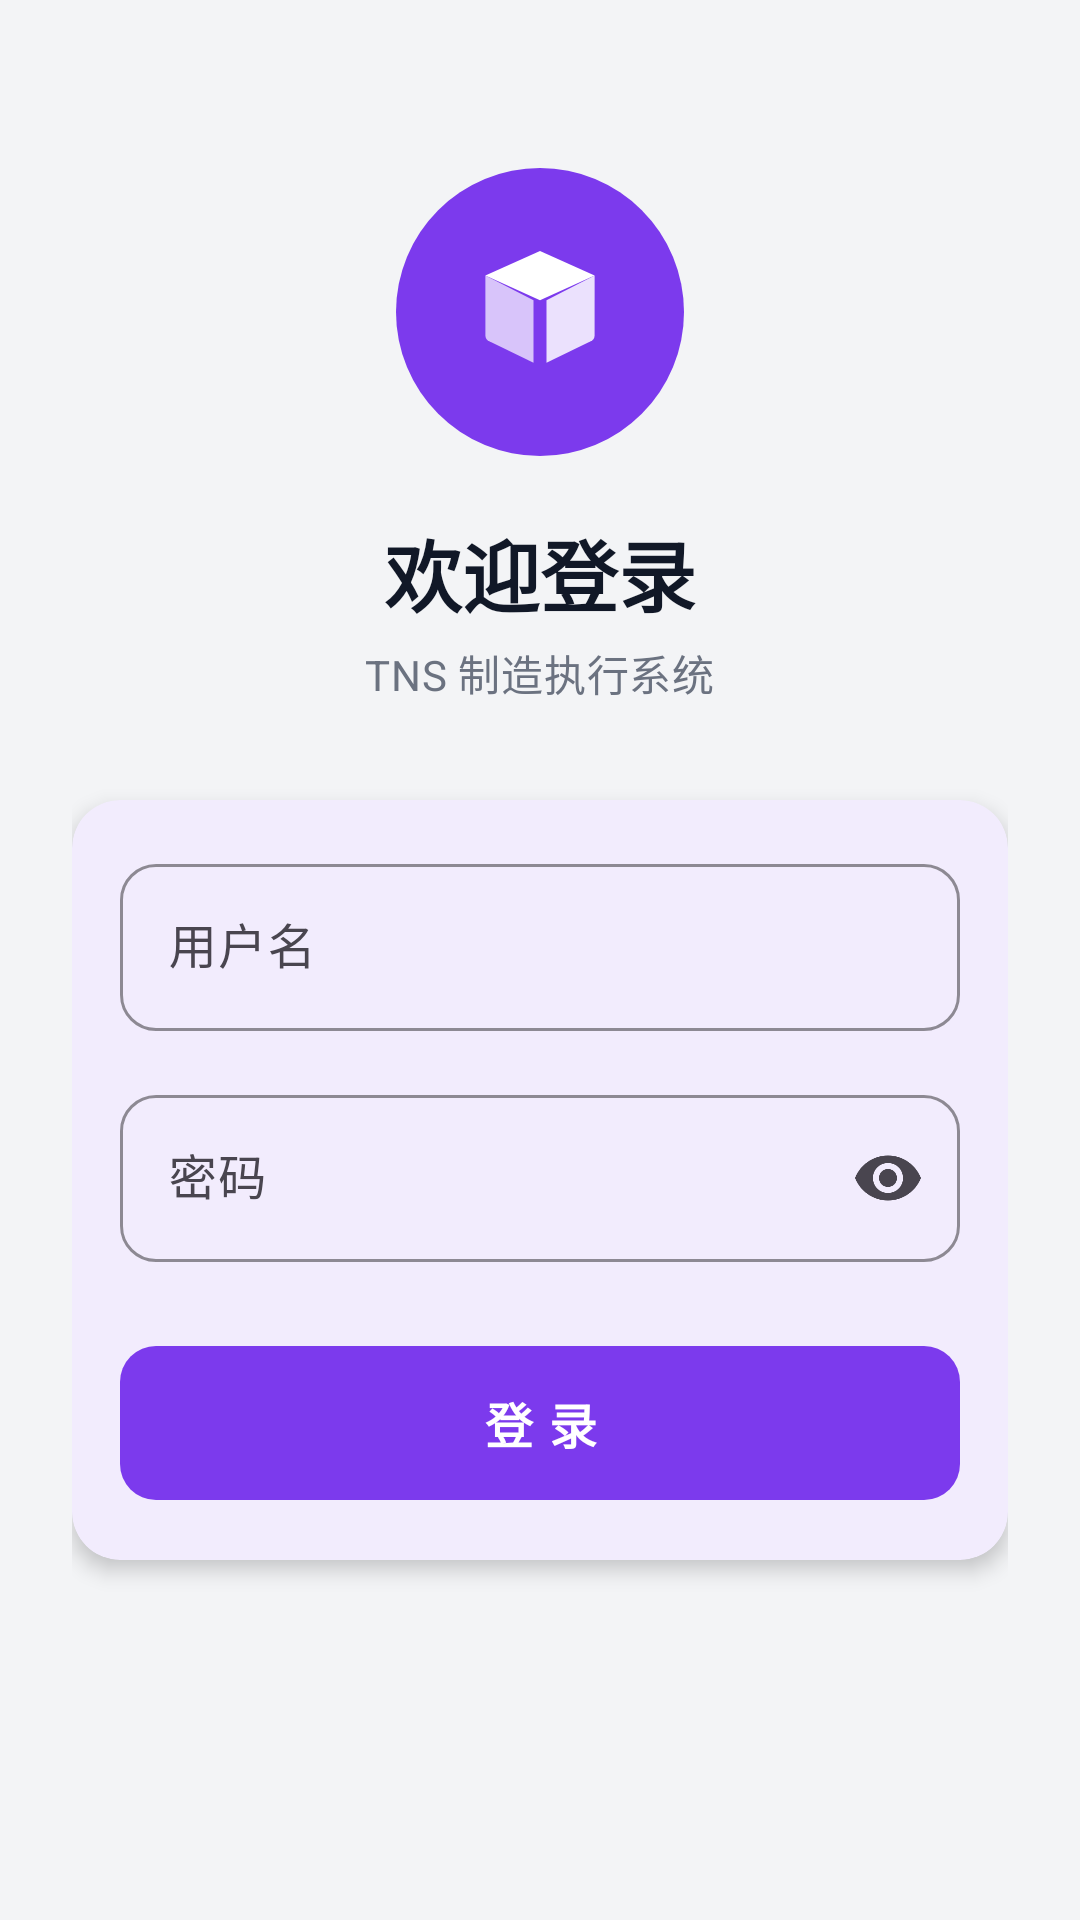

Where icons sit on this 1080px×1920px app screen, as bbox=[x1, y1, x2, y2]:
package: bbox=[485, 251, 595, 363]
